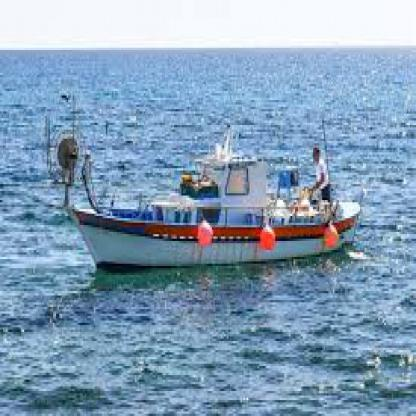fish-b: (49, 112, 372, 280)
